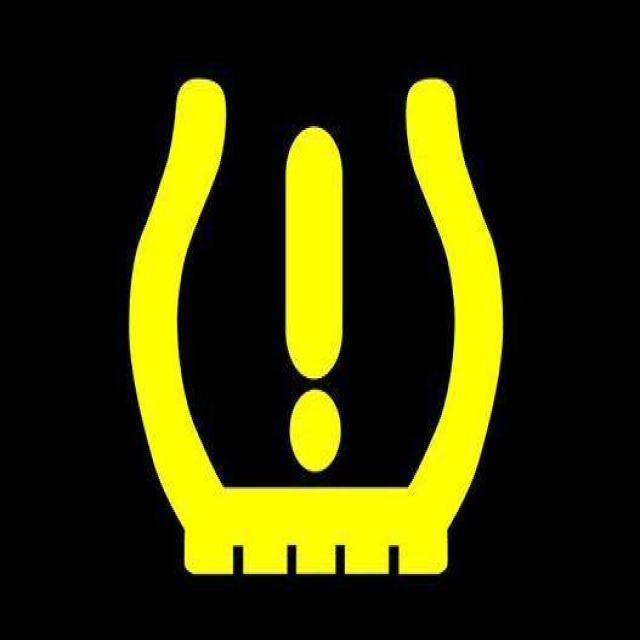kontrolka: (99, 61, 538, 610)
